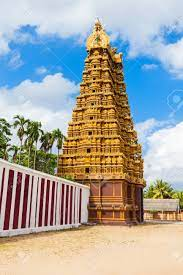Temple: (61, 21, 146, 216)
